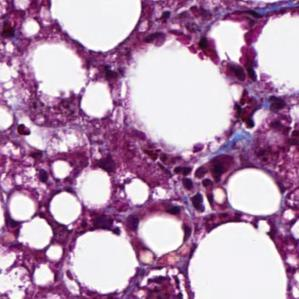inflammation: (171, 162, 228, 216)
